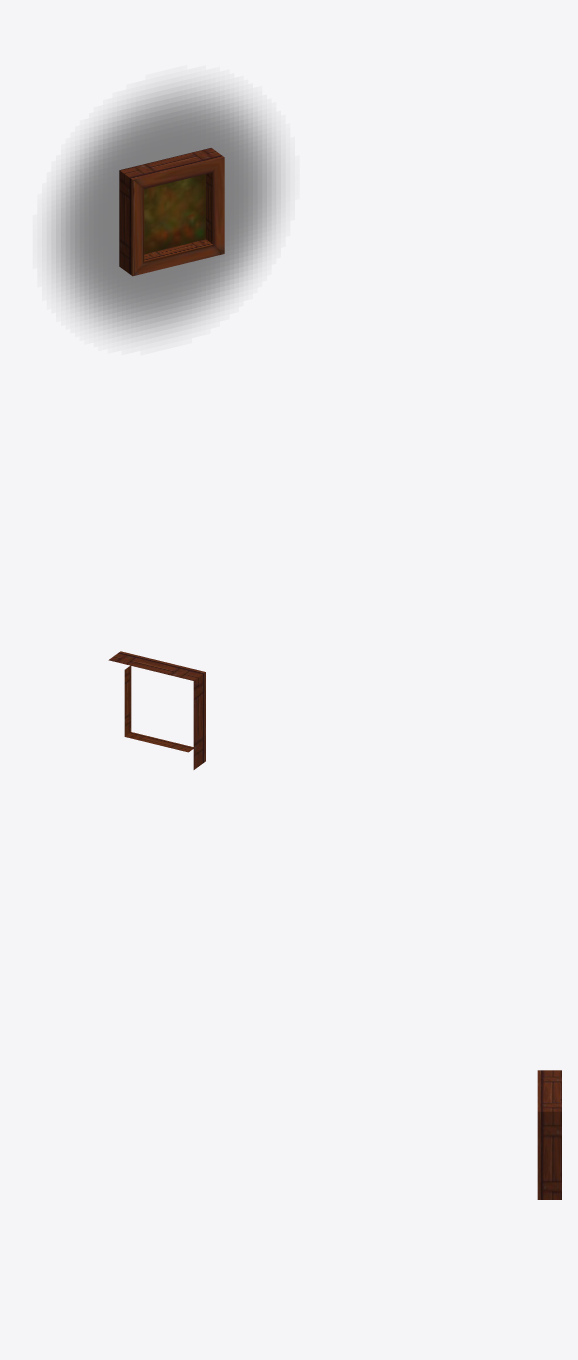
Rendered from prop_tree_large_woodbox_ul.glb.
The picture shows the model from 3 angles, top to bottom: view 1: azimuth 30°, elevation 25°; view 2: azimuth 150°, elevation 25°; view 3: azimuth 270°, elevation 25°; orthographic projection. The views are drawn at different scales.
Parts seen in each view (by area): view 1: shadow_large_woodbox_ul, box3_top; view 2: box3_top; view 3: box3_top.
Part boxes in pixels (x1=…): shadow_large_woodbox_ul: x1=51, y1=85, x2=280, y2=336; box3_top: x1=119, y1=148, x2=224, y2=276; box3_top: x1=108, y1=651, x2=205, y2=769; box3_top: x1=537, y1=1070, x2=561, y2=1199.
Size of the model in its own units: 16.89 by 16.89 by 29.25.
Materials: 4 (4 with a texture image).
